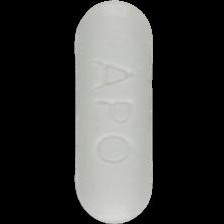60505-0081: (0, 0, 224, 224)
